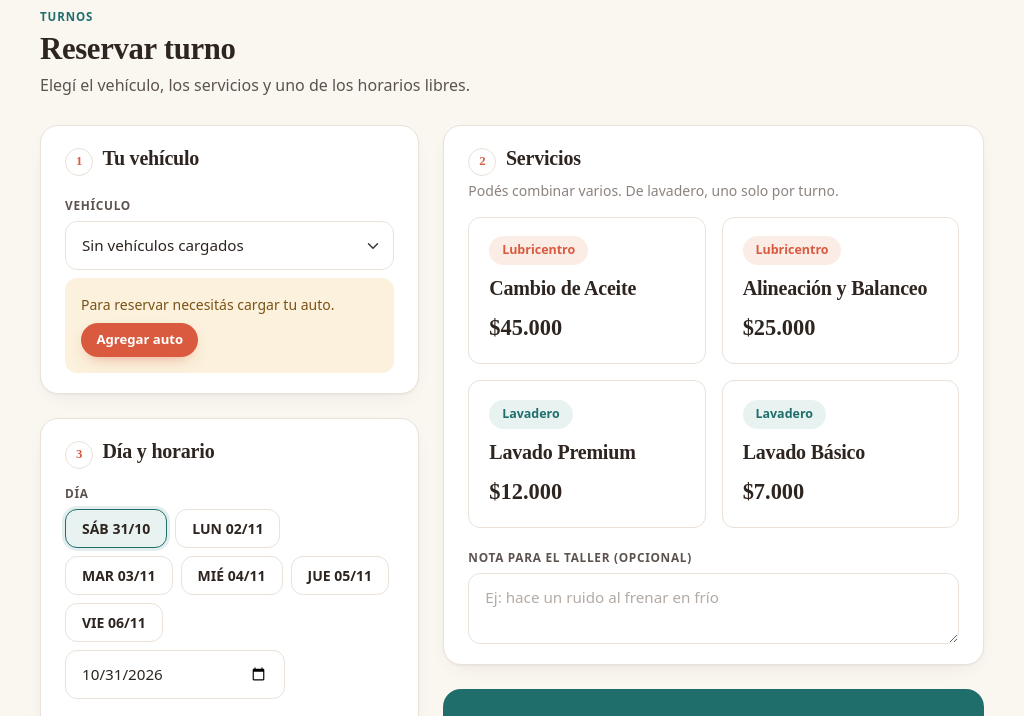
AltaTurno: elegir varios servicios (Dado / Cuando / Entonces) › Dado un servicio elegido, Cuando lo toca de nuevo, Entonces se quita
The width and height of the screenshot is (1024, 716).
Check: the text "Cambio de Aceite" is shown, box [489,277,636,299]
Click the button "Lubricentro Cambio de Aceite $45.000" at coordinates (587, 291), box [468,217,706,364]
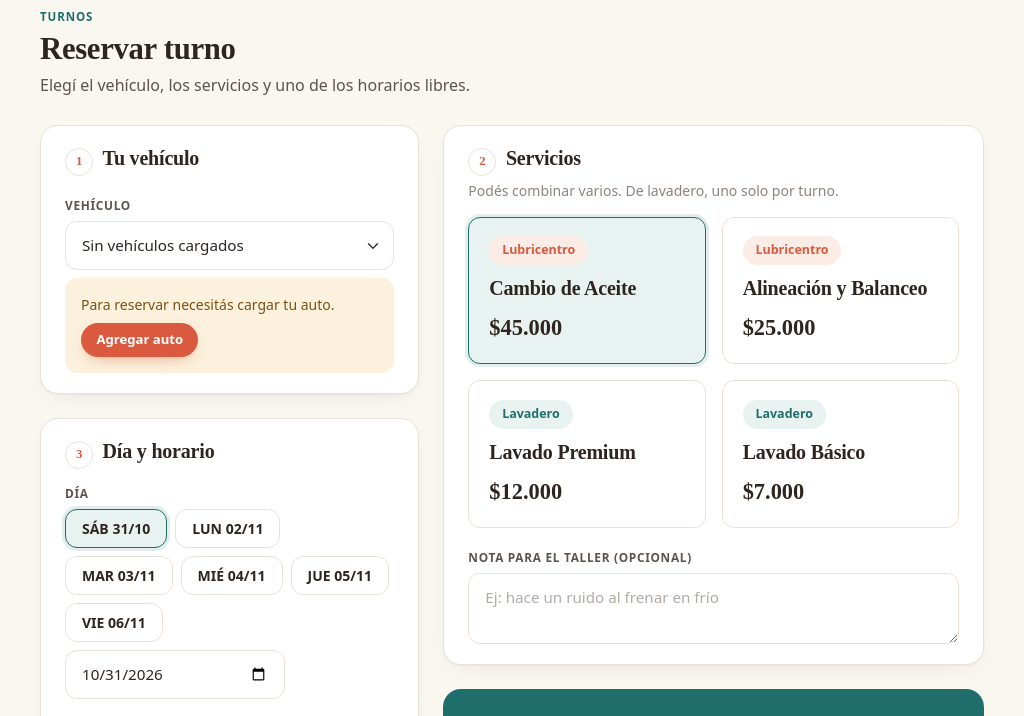
Click the button "Lubricentro Cambio de Aceite $45.000" at coordinates (587, 291), box [468,217,706,364]
(page scrolled)
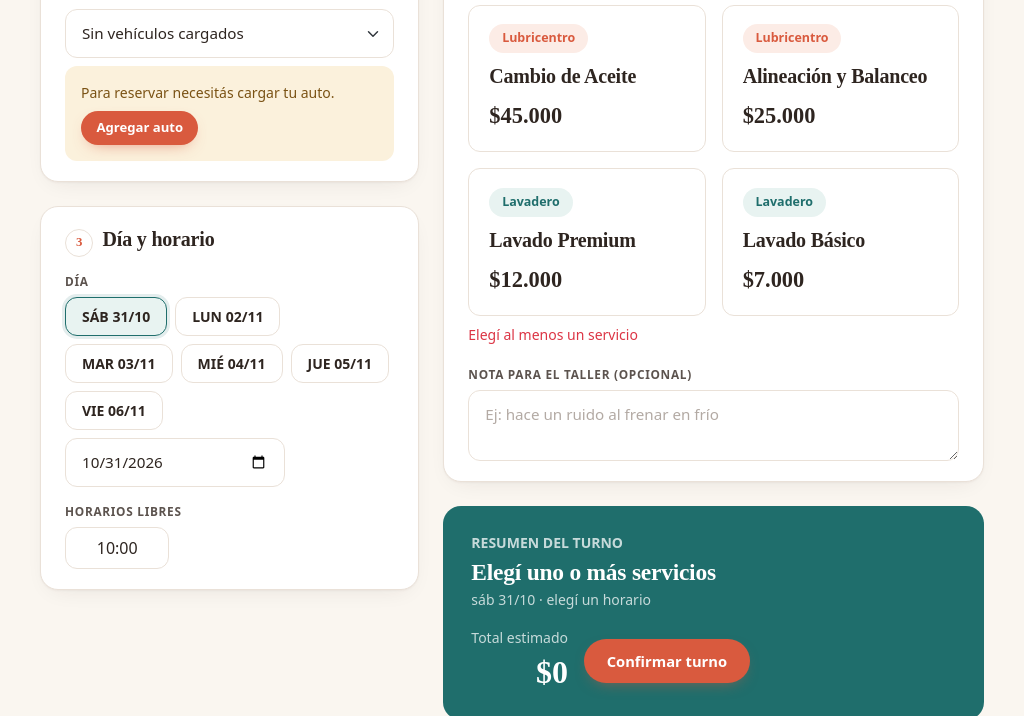
Check: the heading "Elegí uno o más servicios" is shown, box [471,558,716,587]
